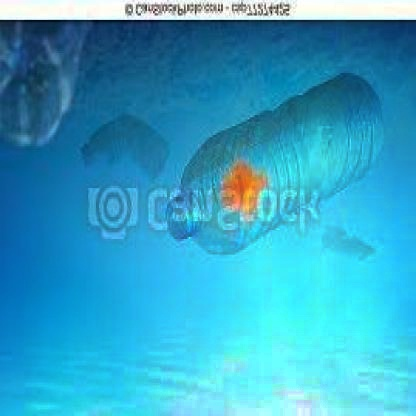pbottle: (161, 66, 388, 259)
